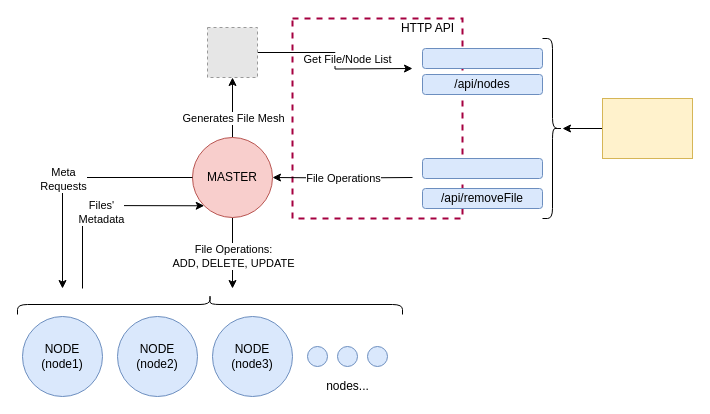
Some shapes in this 710 by 414 pixel diagram are drawn without their labels. Grey dashed boxes stand in for pictures. Each missing label, with the centre of its shape:
"/api/addFile" goes at point 482,168.
"/api/files" goes at point 482,58.
"UI Client" goes at point 647,128.
